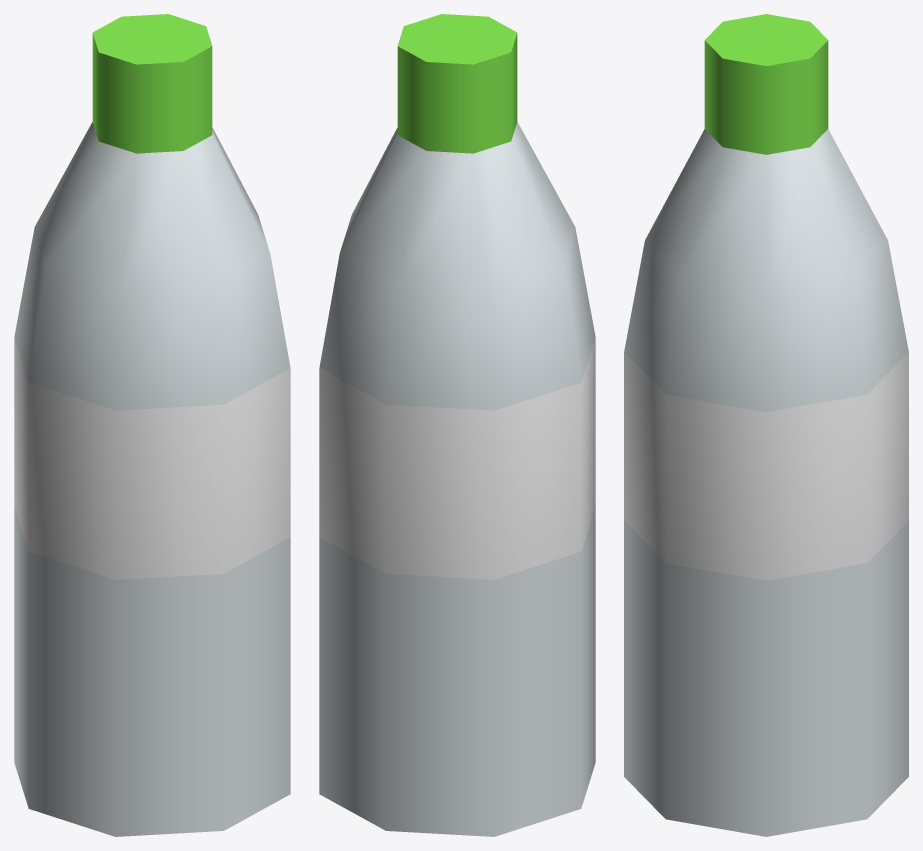
The model's file is ProductPlastic.fbx.
3 views of the same model, side by side, from view 1: azimuth 30°, elevation 25°; view 2: azimuth 150°, elevation 25°; view 3: azimuth 270°, elevation 25° (orthographic).
Parts seen in each view (by area): view 1: ProductPlastic; view 2: ProductPlastic; view 3: ProductPlastic.
Part boxes in pixels (x1,y1,x2,y2): ProductPlastic: (14, 14, 290, 836); ProductPlastic: (319, 14, 595, 836); ProductPlastic: (624, 14, 908, 836).
Bounding box in the file's own units: 0.1826 × 0.5209 × 0.1826.
